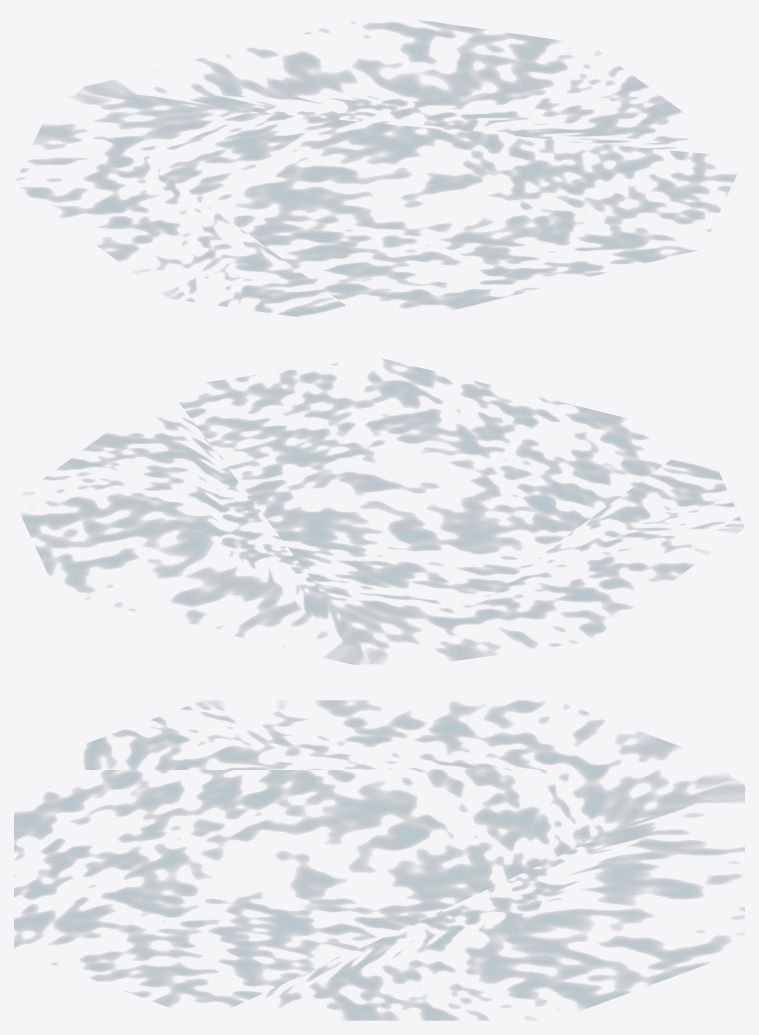
The model's file is pool-surface.glb.
3 views of the same model, one above another, from view 1: azimuth 30°, elevation 25°; view 2: azimuth 150°, elevation 25°; view 3: azimuth 270°, elevation 25° (orthographic). The views are drawn at different scales.
Parts seen in each view (by area): view 1: water surface; view 2: water surface; view 3: water surface.
Boxes of the visible parts, x1,y1,x2,y2 form: water surface: (20, 21, 735, 316); water surface: (21, 359, 743, 664); water surface: (14, 700, 744, 1020).
Size of the model in its own units: 12.34 by 0 by 11.91.
1 material, 1 textured.
